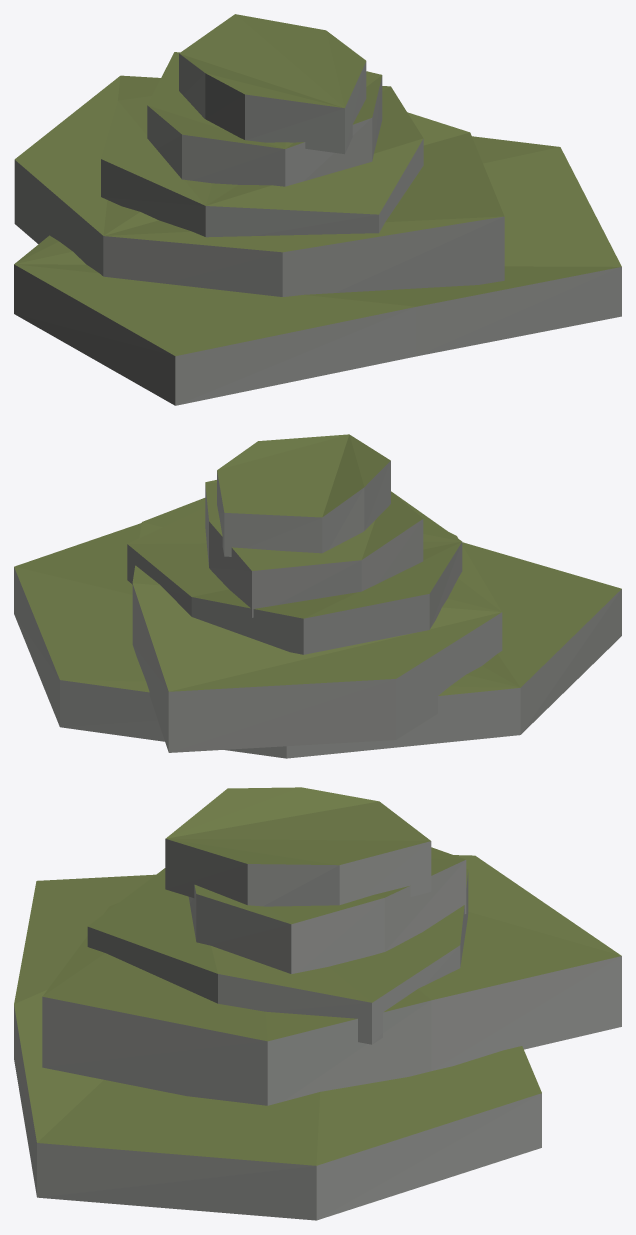
File: rock.boulder__buried__winter.glb
The picture shows the model from 3 angles, top to bottom: view 1: azimuth 30°, elevation 25°; view 2: azimuth 150°, elevation 25°; view 3: azimuth 270°, elevation 25°; orthographic projection. The views are drawn at different scales.
Visible parts, largest first — view 1: rock.boulder; view 2: rock.boulder; view 3: rock.boulder.
Part boxes in pixels (left/top/right/bottom): rock.boulder: left=14, top=14, right=621, bottom=405; rock.boulder: left=14, top=434, right=621, bottom=758; rock.boulder: left=14, top=787, right=621, bottom=1220.
Size of the model in its own units: 2.25 by 0.9162 by 2.
